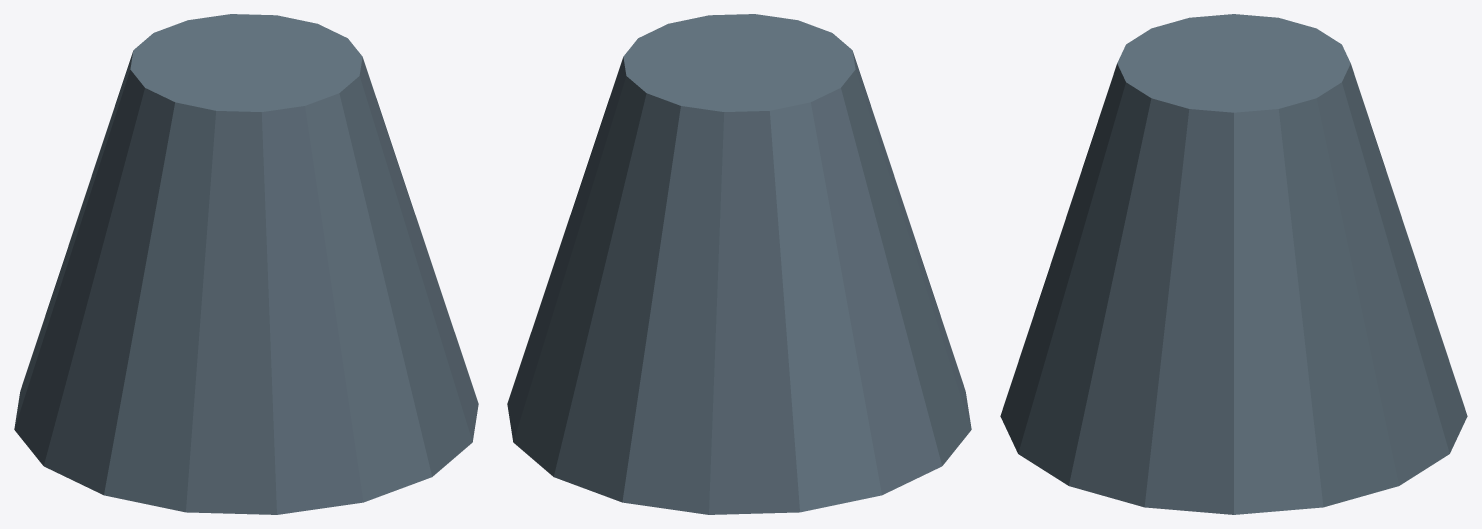
The model's file is P10_TruncatedCone.fbx.
The picture shows the model from 3 angles, left to right: view 1: azimuth 30°, elevation 25°; view 2: azimuth 150°, elevation 25°; view 3: azimuth 270°, elevation 25°; orthographic projection.
Parts seen in each view (by area): view 1: P10_TruncatedCone; view 2: P10_TruncatedCone; view 3: P10_TruncatedCone.
Boxes of the visible parts, box(x1,y1,x2,y2) form: P10_TruncatedCone: box(14, 14, 478, 514); P10_TruncatedCone: box(507, 14, 971, 514); P10_TruncatedCone: box(1000, 14, 1467, 514).
Size of the model in its own units: 1.2 by 1 by 1.2.
Materials: 1 (1 with a texture image).
